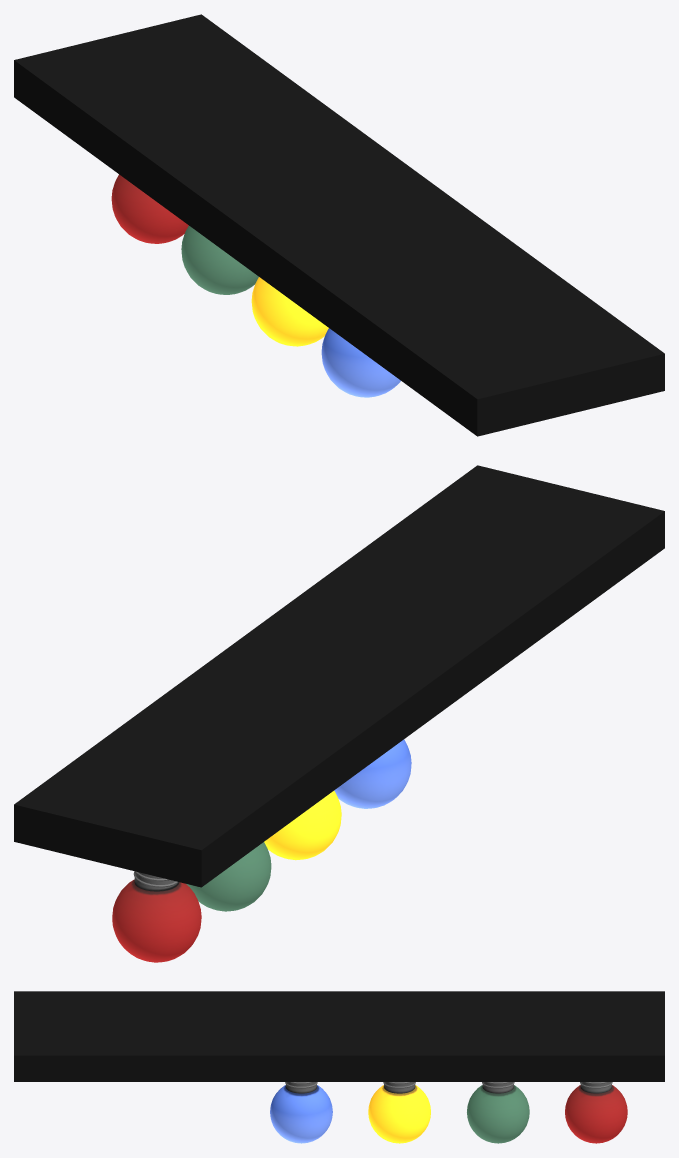
Rendered from SM_Emergency_lights.fbx.
3 views of the same model, one above another, from view 1: azimuth 30°, elevation 25°; view 2: azimuth 150°, elevation 25°; view 3: azimuth 270°, elevation 25° (orthographic). The views are drawn at different scales.
Parts seen in each view (by area): view 1: SM_Bulbs, SM_Bulbs.001, SM_Bulbs.002, SM_Bulbs.003, SM_Bulbs.004; view 2: SM_Bulbs, SM_Bulbs.002, SM_Bulbs.003, SM_Bulbs.004, SM_Bulbs.001; view 3: SM_Bulbs, SM_Bulbs.001, SM_Bulbs.002, SM_Bulbs.004, SM_Bulbs.003.
Boxes of the visible parts, x1,y1,x2,y2 form: SM_Bulbs: (14,14,664,436); SM_Bulbs.001: (321,328,400,397); SM_Bulbs.002: (111,174,188,243); SM_Bulbs.003: (181,226,258,294); SM_Bulbs.004: (251,277,328,346); SM_Bulbs: (14,465,664,887); SM_Bulbs.002: (112,871,201,962); SM_Bulbs.003: (186,842,271,911); SM_Bulbs.004: (264,791,341,860); SM_Bulbs.001: (334,739,411,808); SM_Bulbs: (14,991,664,1081); SM_Bulbs.001: (270,1082,332,1143); SM_Bulbs.002: (565,1082,627,1143); SM_Bulbs.004: (368,1082,430,1143); SM_Bulbs.003: (467,1082,529,1143).
Size of the model in its own units: 52.15 by 44.33 by 223.
1 material, 1 textured.
